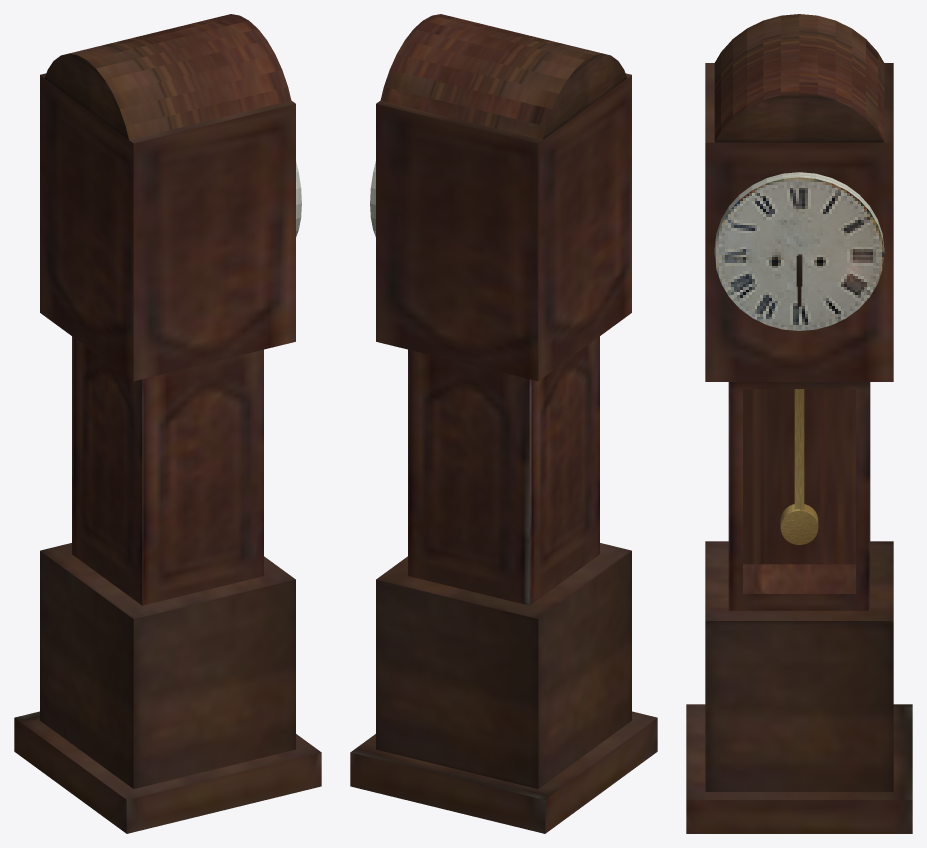
File: clock (1).glb
The picture shows the model from 3 angles, left to right: view 1: azimuth 30°, elevation 25°; view 2: azimuth 150°, elevation 25°; view 3: azimuth 270°, elevation 25°; orthographic projection.
Parts seen in each view (by area): view 1: Cube.003, Cube.002, Cube.001, Cylinder, Cube; view 2: Cube.003, Cube.002, Cube.001, Cylinder, Cube; view 3: Cube.002, Cube.001, Cube.003, Cylinder.001, Cylinder, Cube, Cube.004, Cylinder.002.
Boxes of the visible parts, box(x1,y1,x2,y2) form: Cube.003: box(40, 73, 295, 381); Cube.002: box(40, 543, 295, 788); Cube.001: box(72, 336, 263, 605); Cylinder: box(45, 14, 291, 139); Cube: box(14, 711, 321, 833); Cube.003: box(376, 73, 631, 381); Cube.002: box(376, 543, 631, 788); Cube.001: box(408, 336, 599, 605); Cylinder: box(380, 14, 626, 139); Cube: box(350, 711, 657, 833); Cube.002: box(705, 541, 893, 791); Cube.001: box(728, 382, 870, 610); Cube.003: box(705, 63, 893, 381); Cylinder.001: box(714, 172, 884, 330); Cylinder: box(714, 14, 884, 142); Cube: box(686, 704, 912, 833); Cube.004: box(794, 389, 804, 509); Cylinder.002: box(780, 504, 818, 544).
Bounding box in the file's own units: 1.2 × 4.29 × 1.2.
10 materials, 10 textured.
